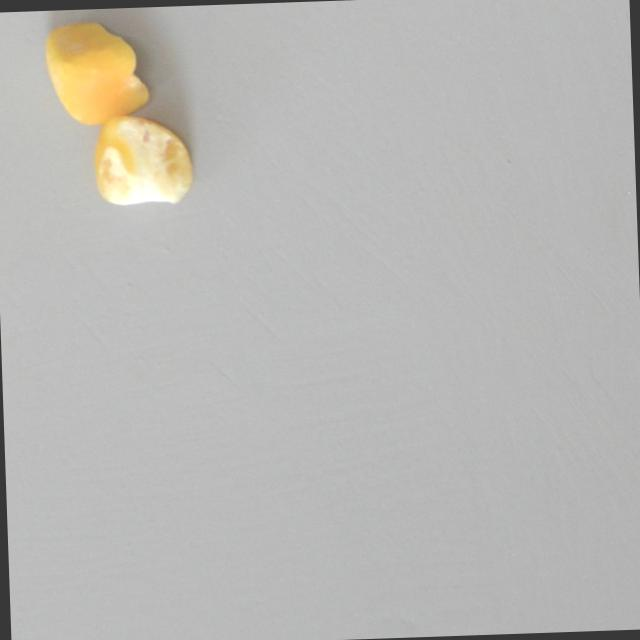estandar: (38, 15, 152, 126)
pelicula: (89, 107, 195, 223)
